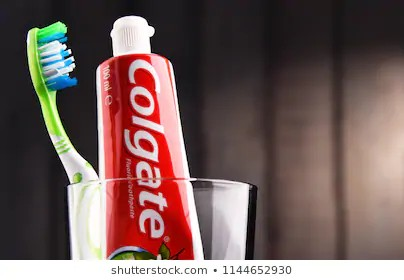toothbrush: (23, 19, 94, 181)
